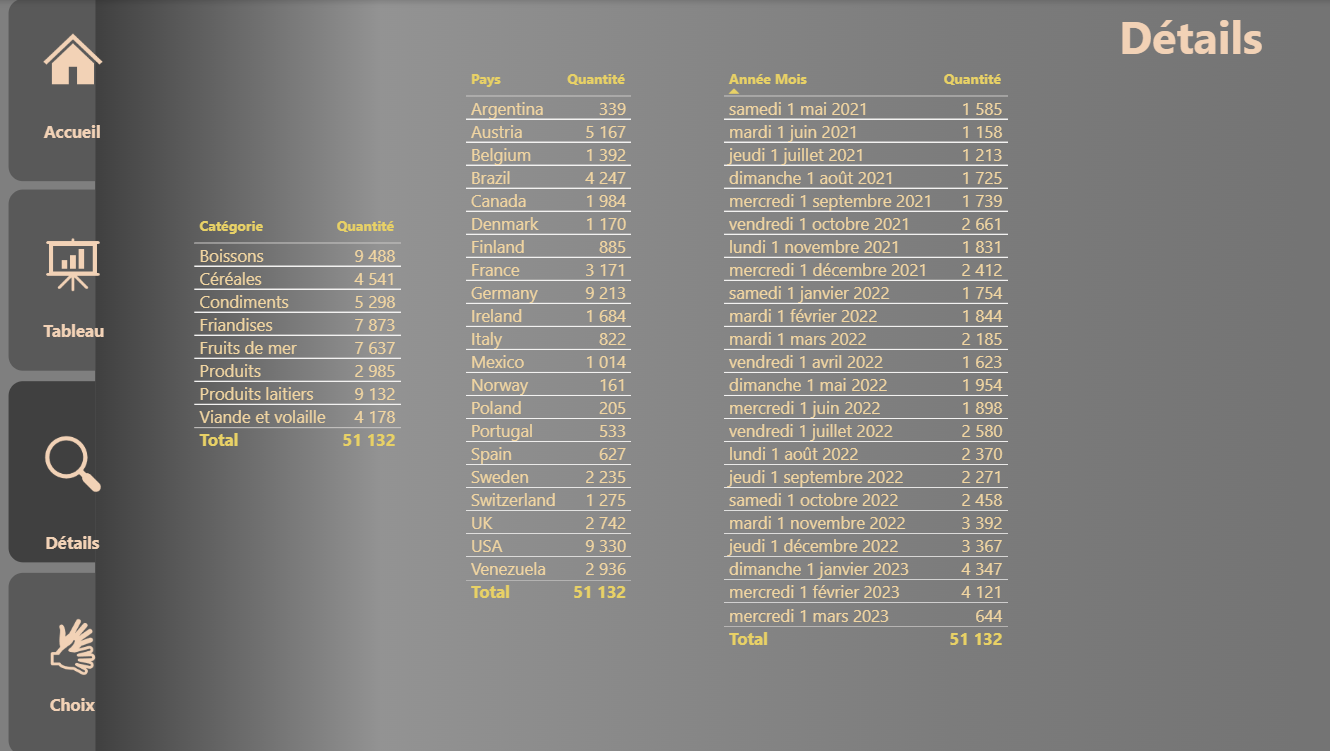

What the dashboard file says about the page in this screenshot:
{"tool":"powerbi","page":{"name":"Page 3","canvas":[1280,720],"ordinal":2},"visuals":[{"type":"textbox","box":[500,0,714.7,80.9],"z":0},{"type":"tableEx","fields":{"Values":["commande client produit.Nom catégorie","Sum(commande client produit.Quantité)"]},"box":[183.8,200.7,211.4,251.2],"z":1000},{"type":"tableEx","fields":{"Values":["commande client produit.Pays","Sum(commande client produit.Quantité)"]},"box":[442.7,59.7,197.6,531.6],"z":2000},{"type":"tableEx","fields":{"Values":["commande client produit.Année Mois","Sum(commande client produit.Quantité)"]},"box":[689.4,59.7,361.5,579.1],"z":3000},{"type":"image","box":[36.4,214.5,75.1,75.1],"z":4000},{"type":"image","box":[36.4,18.4,75.1,75.1],"z":5000},{"type":"image","box":[36.4,580.6,75.1,75.1],"z":6000},{"type":"image","box":[36.4,406,75.1,75.1],"z":7000},{"type":"textbox","box":[23,108.8,99.6,42.9],"z":8000},{"type":"textbox","box":[24.5,298.7,99.6,42.9],"z":9000},{"type":"textbox","box":[23,500.9,99.6,42.9],"z":10000},{"type":"textbox","box":[23,655.7,99.6,42.9],"z":11000},{"type":"shape","box":[23,569.9,99.6,150.1],"z":11001},{"type":"shape","box":[24.5,372.3,99.6,183.8],"z":11002},{"type":"shape","box":[24.5,188.4,99.6,183.8],"z":11003},{"type":"shape","box":[23,0,99.6,183.8],"z":11004}]}

Visuals, with their boxes on the page's 1280x720 design canvas (x1, y1, x2, y2). These are canvas units, not pixel positions in the 1330x751 screenshot, which may show the page scaled, cropped or inside an application window:
textbox: [500,0,1215,81]
tableEx - commande client produit.Nom catégorie x Sum(commande client produit.Quantité): [184,201,395,452]
tableEx - commande client produit.Pays x Sum(commande client produit.Quantité): [443,60,640,591]
tableEx - commande client produit.Année Mois x Sum(commande client produit.Quantité): [689,60,1051,639]
image: [36,214,112,290]
image: [36,18,112,94]
image: [36,581,112,656]
image: [36,406,112,481]
textbox: [23,109,123,152]
textbox: [24,299,124,342]
textbox: [23,501,123,544]
textbox: [23,656,123,699]
shape: [23,570,123,720]
shape: [24,372,124,556]
shape: [24,188,124,372]
shape: [23,0,123,184]
